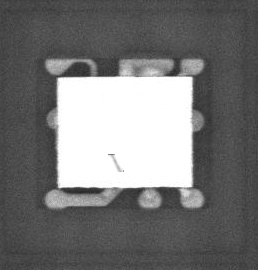DIE_INK: (103, 161, 118, 179)
